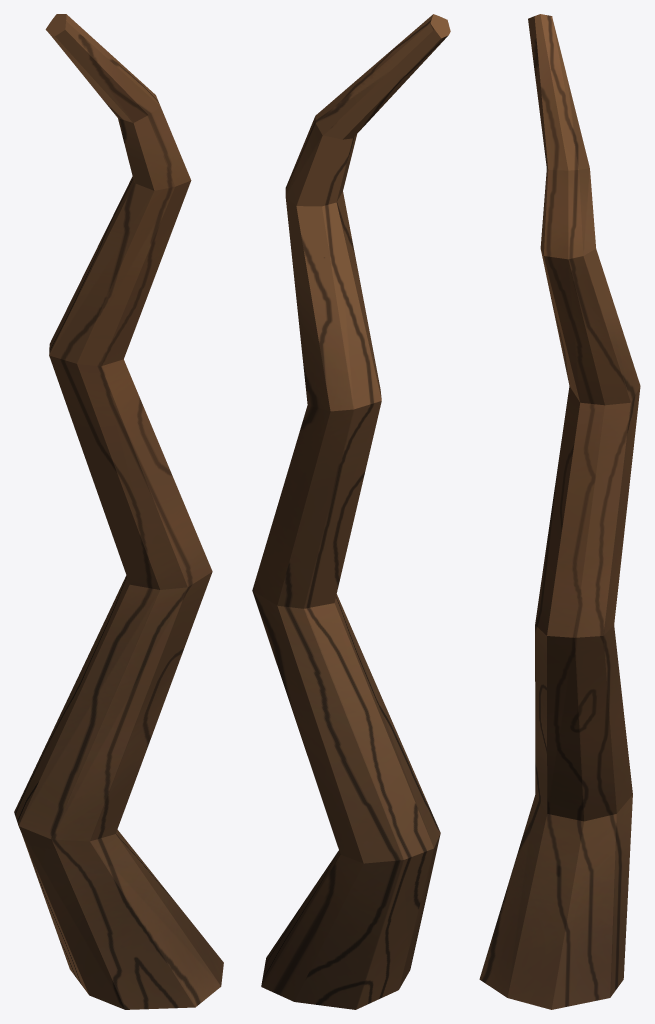
The model's file is MediumBranch-2.fbx.
3 renders of one model, left to right at view 1: azimuth 30°, elevation 25°; view 2: azimuth 150°, elevation 25°; view 3: azimuth 270°, elevation 25°, orthographic. The views are drawn at different scales.
Visible parts, largest first — view 1: MediumBranch-2; view 2: MediumBranch-2; view 3: MediumBranch-2.
Boxes of the visible parts, box(x1,y1,x2,y2) form: MediumBranch-2: box(14, 14, 223, 1009); MediumBranch-2: box(252, 14, 450, 1009); MediumBranch-2: box(479, 14, 640, 1009).
Bounding box in the file's own units: 7.57 × 38.24 × 6.06.
